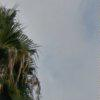Palm tree: (2, 4, 41, 99)
